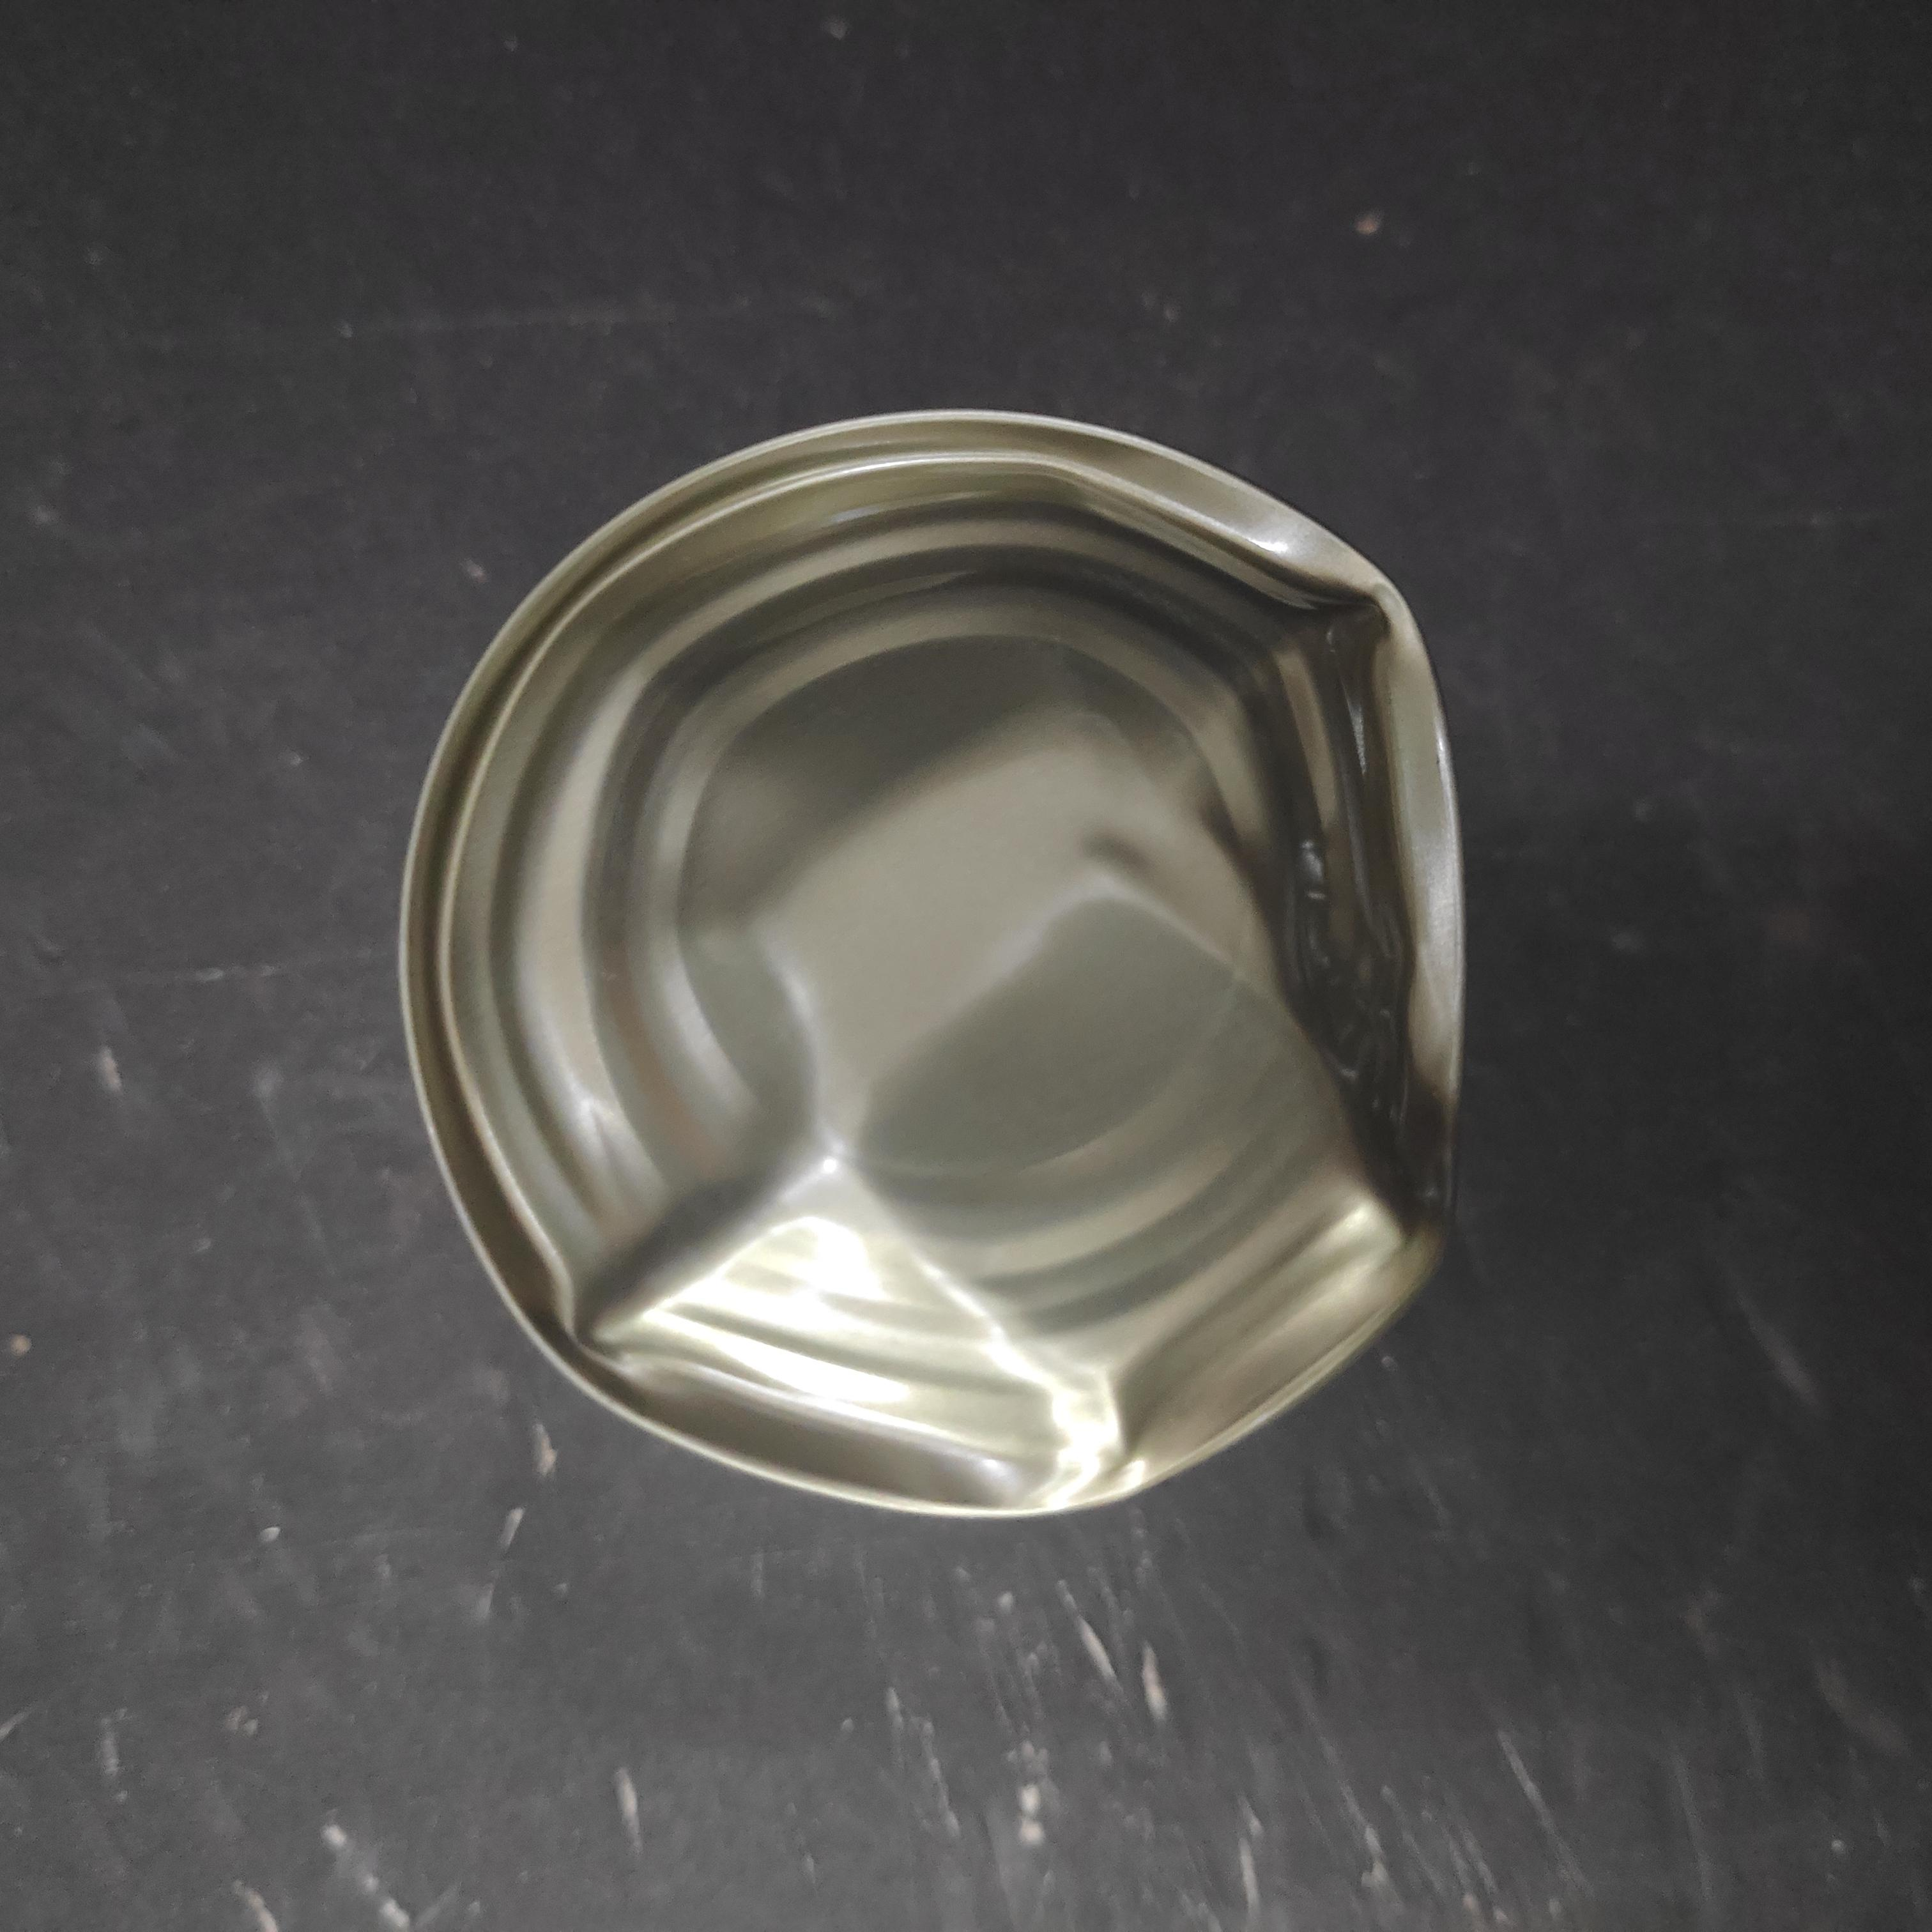Critical Defect: (407, 377, 1532, 1484)
